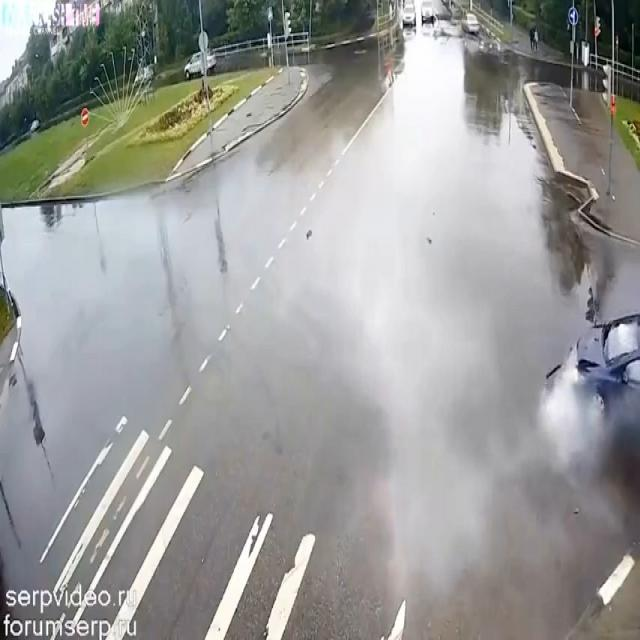Accident: (533, 265, 640, 515)
